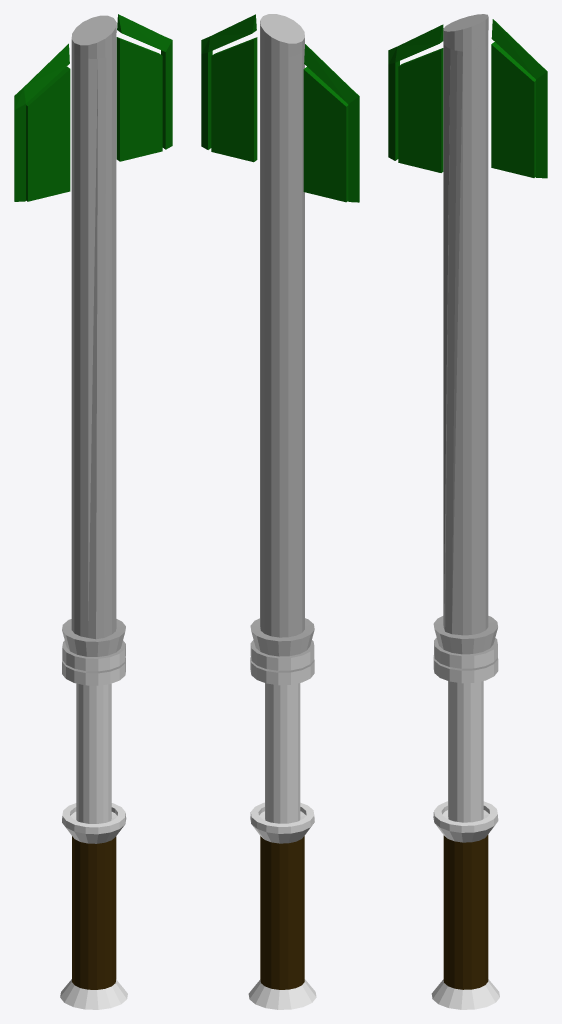
Rendered from Shatterack.fbx.
3 views of the same model, side by side, from view 1: azimuth 30°, elevation 25°; view 2: azimuth 150°, elevation 25°; view 3: azimuth 330°, elevation 25° (orthographic).
Parts seen in each view (by area): view 1: Shatterack; view 2: Shatterack; view 3: Shatterack.
Part boxes in pixels (bbox=[...]): Shatterack: bbox=[14, 14, 172, 1009]; Shatterack: bbox=[201, 14, 359, 1009]; Shatterack: bbox=[388, 14, 547, 1009].
Size of the model in its own units: 0.3838 by 2.27 by 0.1443.
